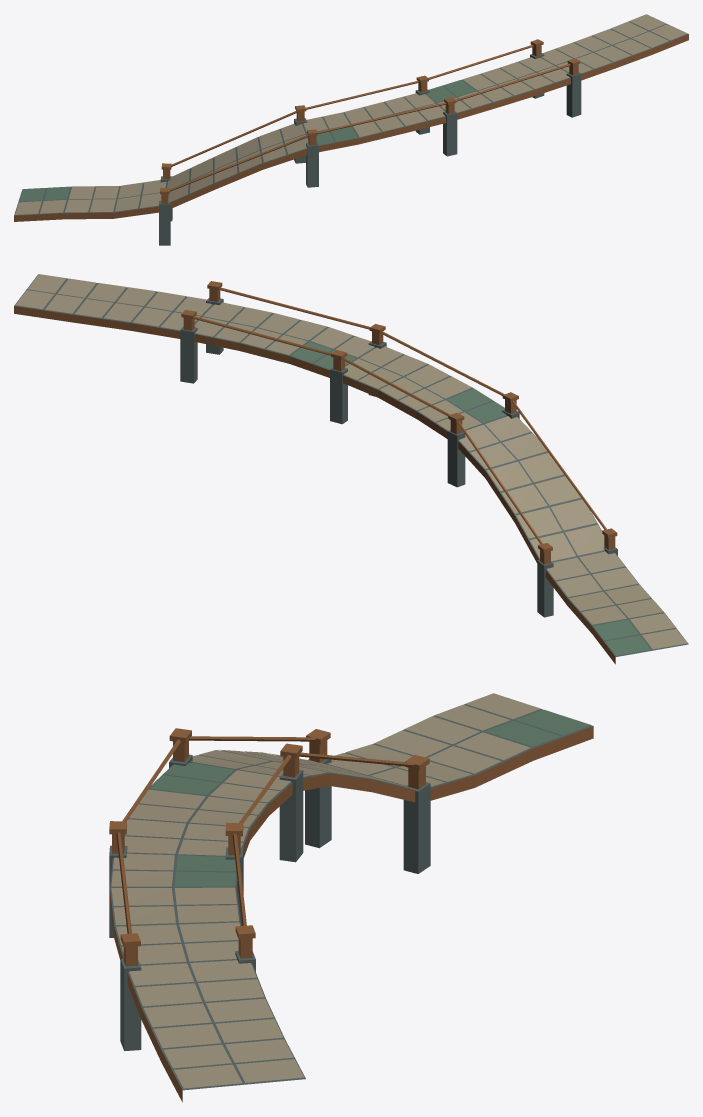
File: 1_pilgrims_cross_1.glb
The picture shows the model from 3 angles, top to bottom: view 1: azimuth 30°, elevation 25°; view 2: azimuth 150°, elevation 25°; view 3: azimuth 270°, elevation 25°; orthographic projection. The views are drawn at different scales.
Visible parts, largest first — view 1: Detail_10_11, Detail_9_11, Deck_10_11-col, Deck_9_11-col; view 2: Detail_10_11, Detail_9_11, Deck_10_11-col, Deck_9_11-col; view 3: Detail_10_11, Detail_9_11, Deck_10_11-col, Deck_9_11-col.
Part boxes in pixels (x1,y1,x2,y2): Detail_10_11: [142, 14, 688, 221]; Detail_9_11: [14, 182, 170, 245]; Deck_10_11-col: [166, 21, 688, 203]; Deck_9_11-col: [14, 182, 166, 215]; Detail_10_11: [14, 274, 617, 617]; Detail_9_11: [545, 551, 687, 664]; Deck_10_11-col: [14, 274, 605, 562]; Deck_9_11-col: [546, 553, 688, 656]; Detail_10_11: [109, 728, 444, 1102]; Detail_9_11: [327, 693, 593, 800]; Deck_10_11-col: [110, 750, 404, 1090]; Deck_9_11-col: [328, 704, 592, 788].
Bounding box in the file's own units: 27.27 × 5.63 × 9.58.
